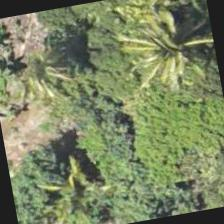Kelapa_Sawit: (111, 0, 216, 101)
